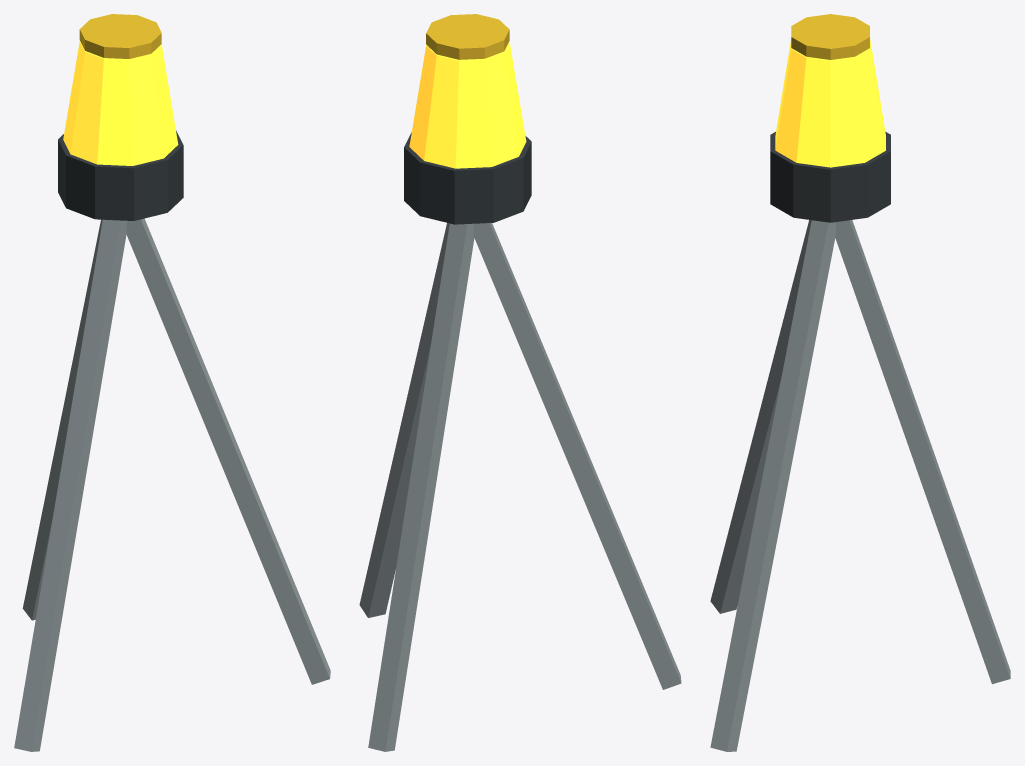
Rendered from TR3_WarningLight_Tripod.glb.
3 views of the same model, side by side, from view 1: azimuth 30°, elevation 25°; view 2: azimuth 150°, elevation 25°; view 3: azimuth 270°, elevation 25° (orthographic).
Parts seen in each view (by area): view 1: TR3_WarningLight_Tripod; view 2: TR3_WarningLight_Tripod; view 3: TR3_WarningLight_Tripod.
Boxes of the visible parts, box(x1,y1,x2,y2) form: TR3_WarningLight_Tripod: box(14, 14, 330, 751); TR3_WarningLight_Tripod: box(359, 14, 681, 751); TR3_WarningLight_Tripod: box(710, 14, 1010, 751).
Bounding box in the file's own units: 0.753 × 1.47 × 0.616.
